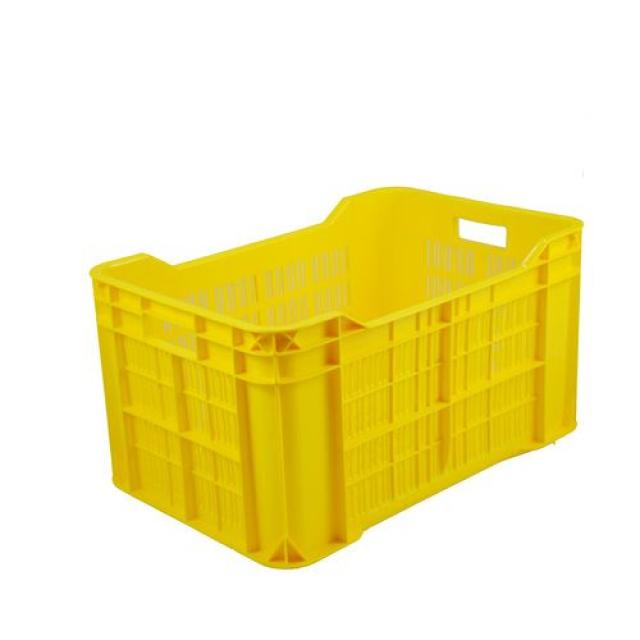basket: (71, 155, 634, 597)
